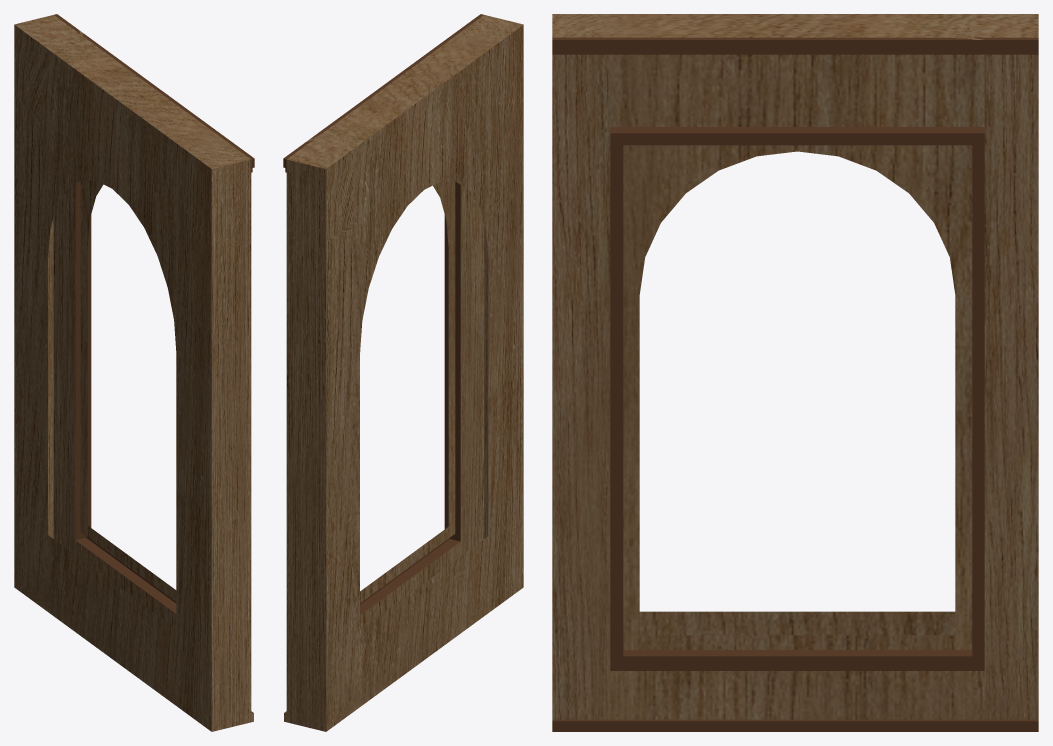
Rendered from Arch_WallC_win2.fbx.
The picture shows the model from 3 angles, left to right: view 1: azimuth 30°, elevation 25°; view 2: azimuth 150°, elevation 25°; view 3: azimuth 270°, elevation 25°; orthographic projection. The views are drawn at different scales.
Visible parts, largest first — view 1: WallC; view 2: WallC; view 3: WallC.
Boxes of the visible parts, x1=… form: WallC: x1=14, y1=14, x2=254, y2=731; WallC: x1=283, y1=14, x2=523, y2=731; WallC: x1=552, y1=14, x2=1038, y2=731.
Bounding box in the file's own units: 31.7 × 340 × 216.
